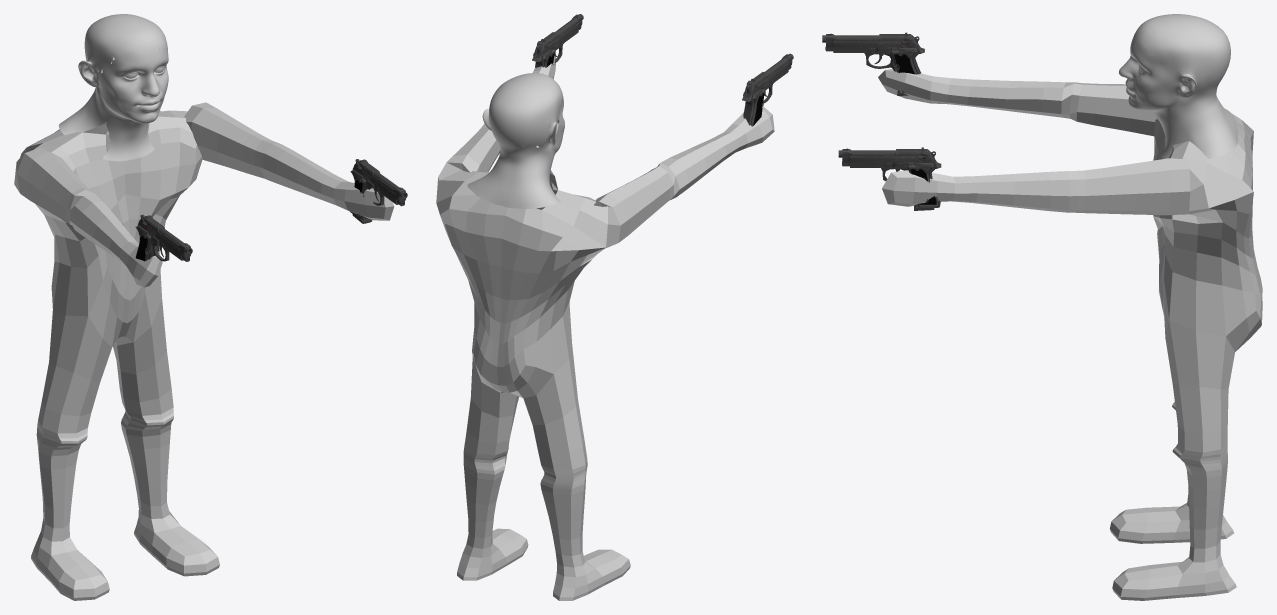
The model's file is Bof.obj.
The picture shows the model from 3 angles, left to right: view 1: azimuth 30°, elevation 25°; view 2: azimuth 150°, elevation 25°; view 3: azimuth 270°, elevation 25°; orthographic projection. The views are drawn at different scales.
Visible parts, largest first — view 1: Cube, FBHead_FBHead_mesh, Pistol_Hammer_Circle.001, Pistol_Hammer.001_Circle.005, Pistol_Top.001_Circle.006, Pistol_Top_Circle.000; view 2: Cube, FBHead_FBHead_mesh, Pistol_Hammer_Circle.001, Pistol_Hammer.001_Circle.005, Pistol_Top.001_Circle.006, Pistol_Top_Circle.000; view 3: Cube, FBHead_FBHead_mesh, Pistol_Hammer_Circle.001, Pistol_Hammer.001_Circle.005, Pistol_Top.001_Circle.006, Pistol_Top_Circle.000.
Boxes of the visible parts, box(x1,y1,x2,y2) form: Cube: box(14, 102, 394, 600); FBHead_FBHead_mesh: box(59, 14, 168, 161); Pistol_Hammer_Circle.001: box(135, 225, 192, 261); Pistol_Hammer.001_Circle.005: box(350, 169, 407, 220); Pistol_Top.001_Circle.006: box(353, 159, 405, 201); Pistol_Top_Circle.000: box(138, 215, 190, 257); Cube: box(436, 56, 774, 600); FBHead_FBHead_mesh: box(467, 73, 564, 208); Pistol_Hammer_Circle.001: box(742, 53, 793, 126); Pistol_Hammer.001_Circle.005: box(532, 14, 583, 67); Pistol_Top.001_Circle.006: box(534, 14, 582, 55); Pistol_Top_Circle.000: box(744, 54, 792, 95); Cube: box(878, 69, 1262, 600); FBHead_FBHead_mesh: box(1119, 14, 1238, 158); Pistol_Hammer_Circle.001: box(822, 35, 924, 93); Pistol_Hammer.001_Circle.005: box(838, 150, 941, 207); Pistol_Top.001_Circle.006: box(842, 147, 934, 162); Pistol_Top_Circle.000: box(826, 32, 918, 47).
Size of the model in its own units: 20.33 by 41.93 by 30.47.
